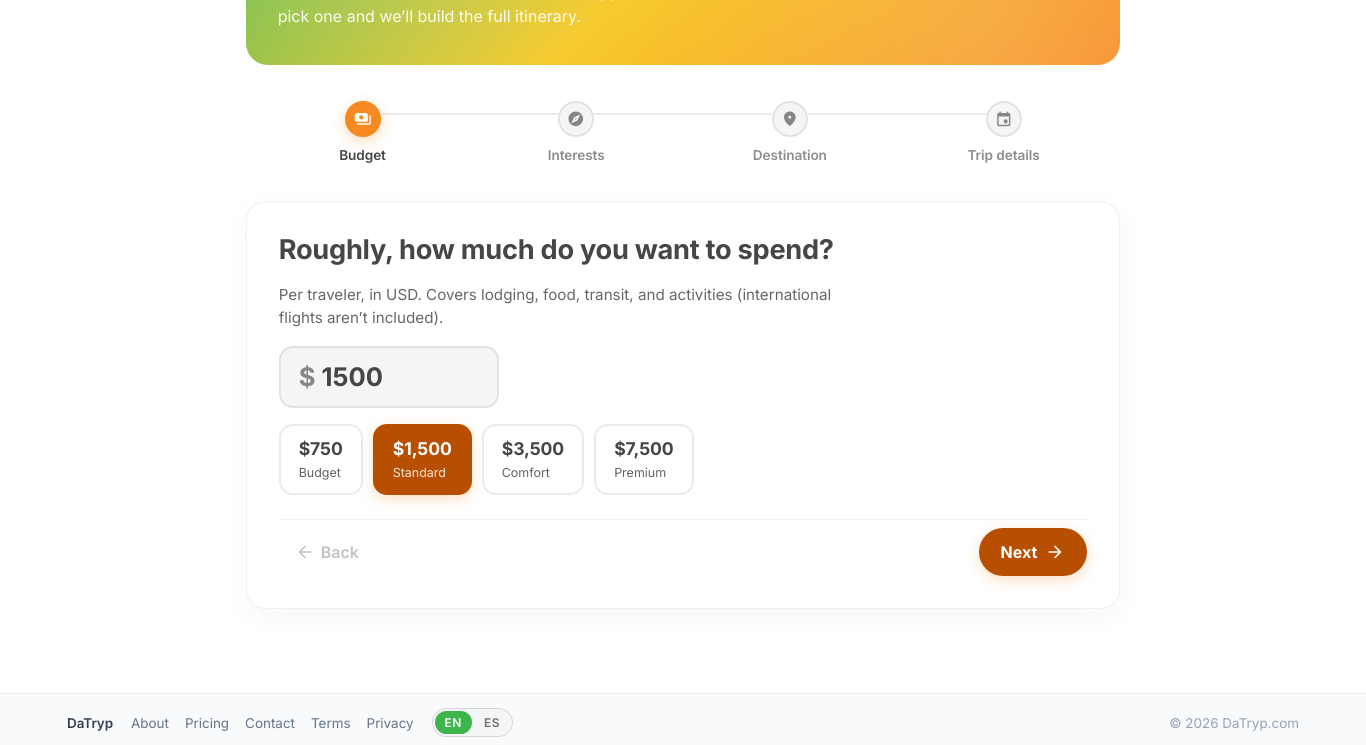
AiTripBuilderPage — wizard › blocks Next on the interests step when none are chosen
(page scrolled)
Click the button "Next" at x=1033, y=552, box [978,528,1087,576]
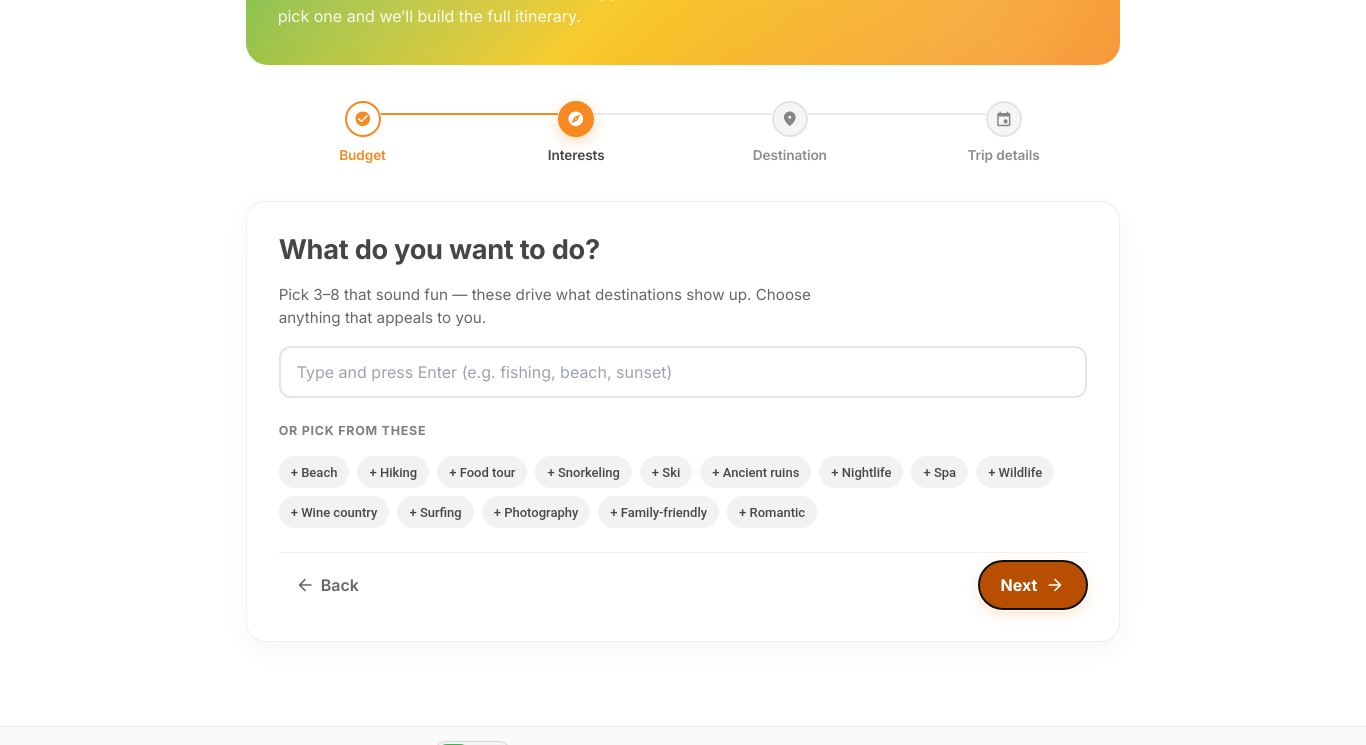
Click the button "Next" at x=1033, y=585, box [978,561,1087,609]
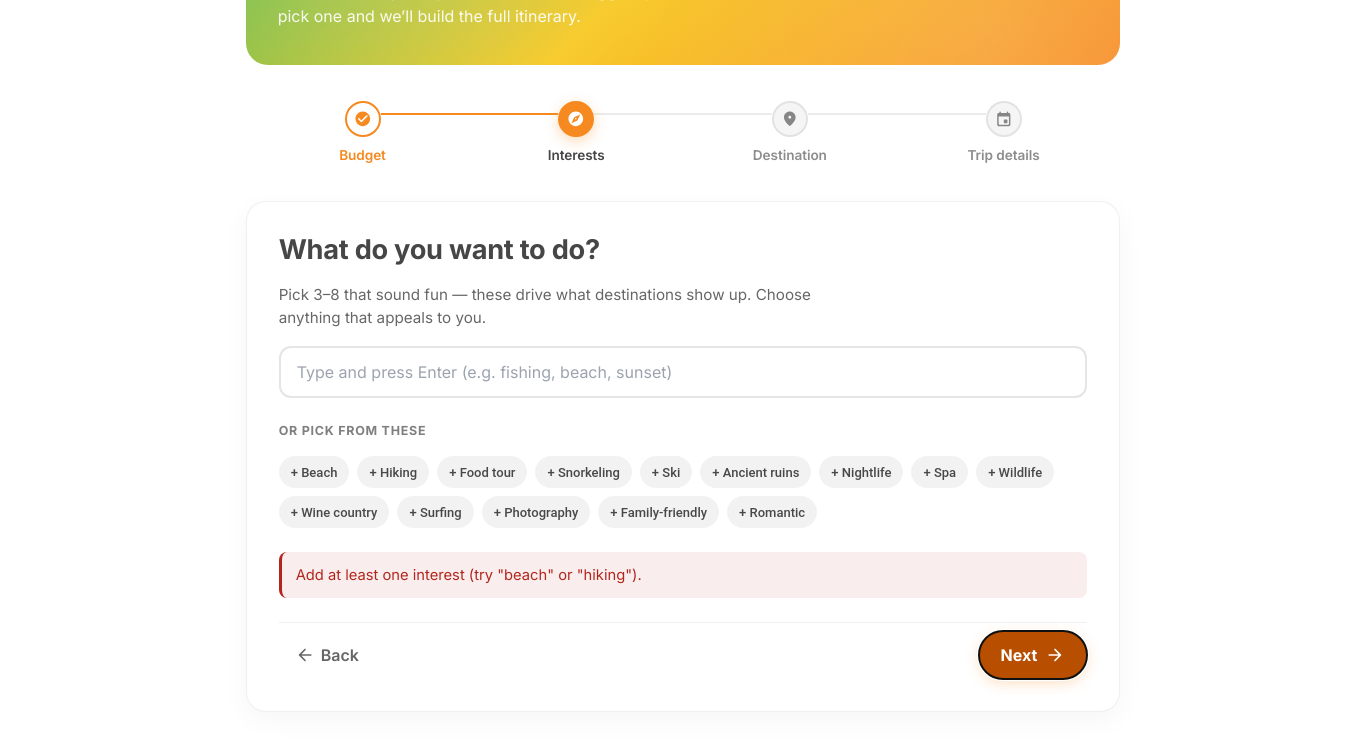
Now the message shows "Add at least one interest", box [296,566,642,584]
